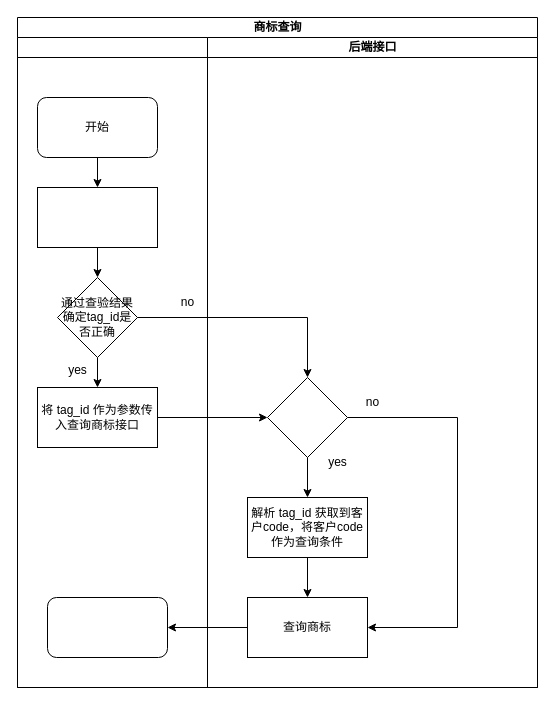
Image size: 555x705. Some labels were removed from this diagram. The box of each missing label's shape, as (x1, y1, x2, y2) in pixels:
前端页面: (16, 36, 208, 688)
展示商标列表: (46, 596, 168, 658)
是否存在 tag_id 参数: (266, 376, 348, 458)
消费者 输入商标名称作为查询条件: (36, 186, 158, 248)
